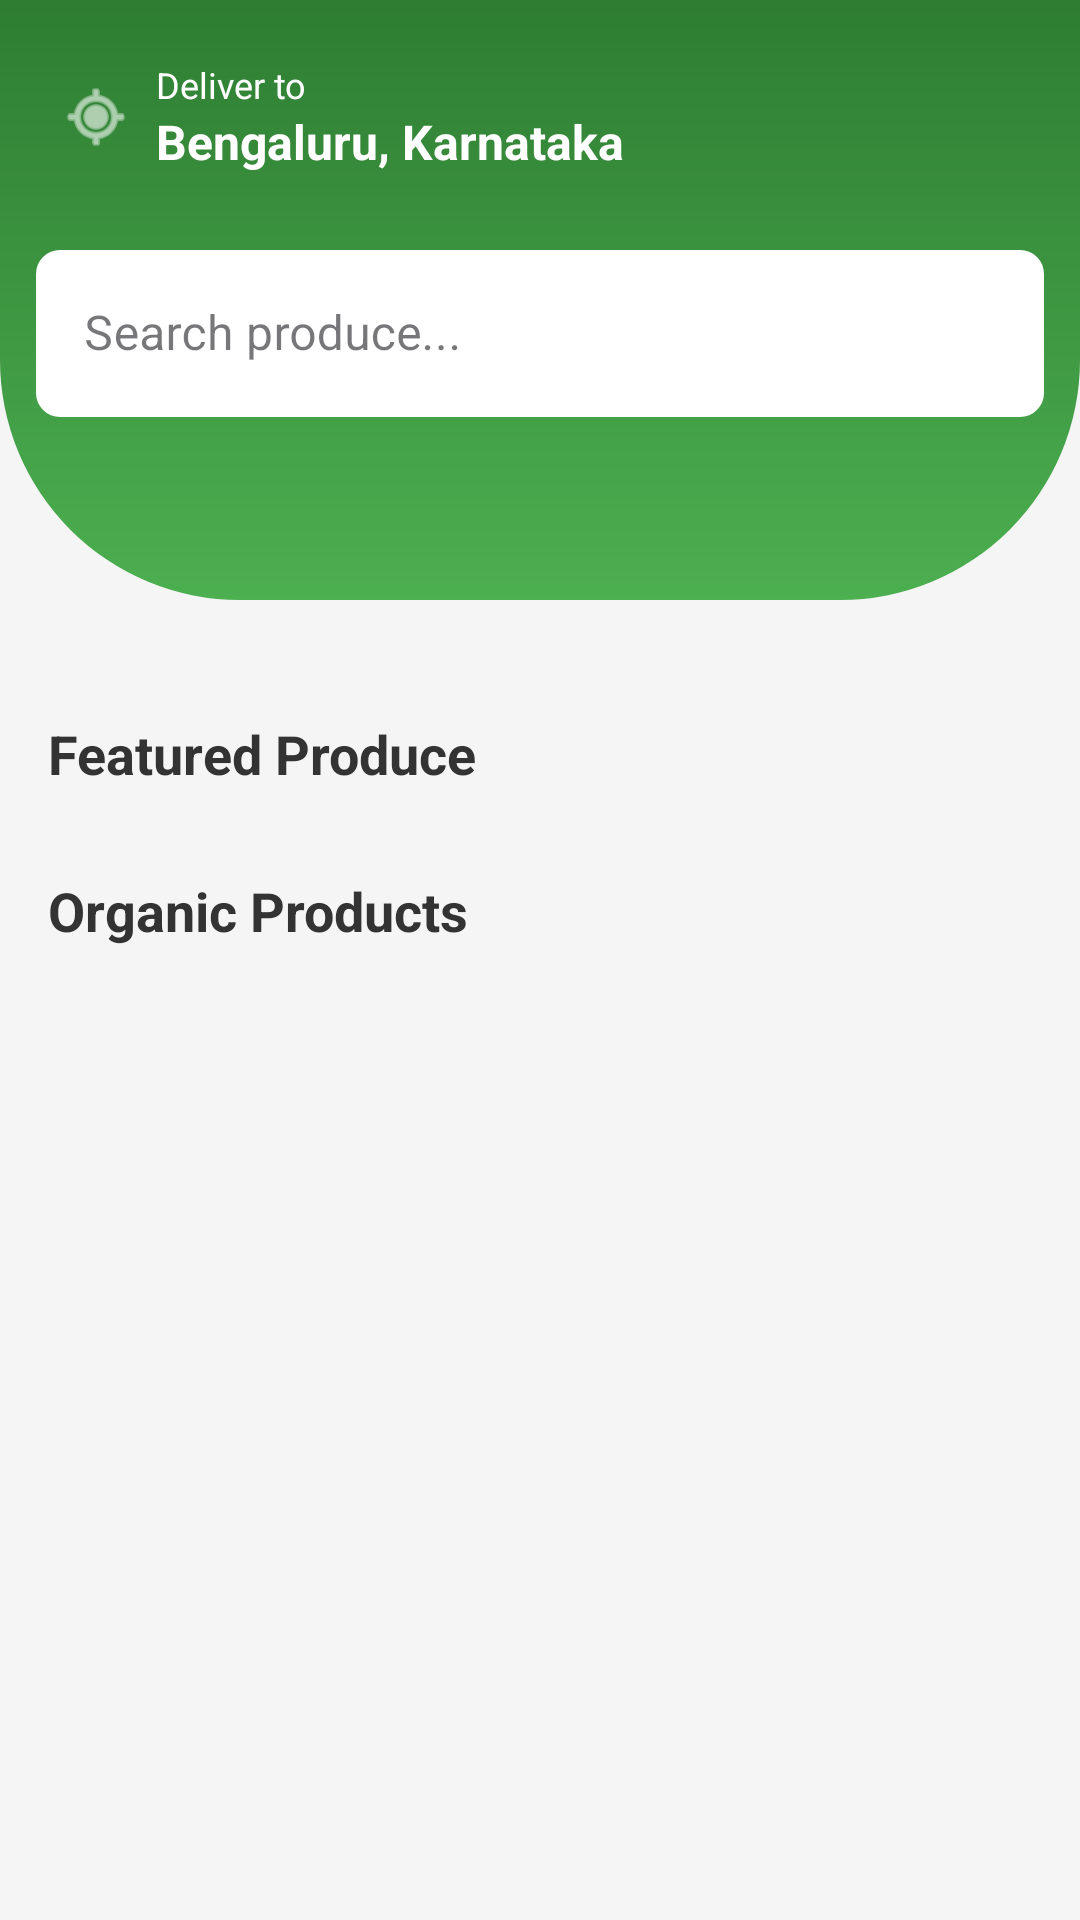

Icons on this 1080 × 1920 Android screen, each with its box as (x1, y1, x2, y2):
Location: (67, 88, 125, 146)
